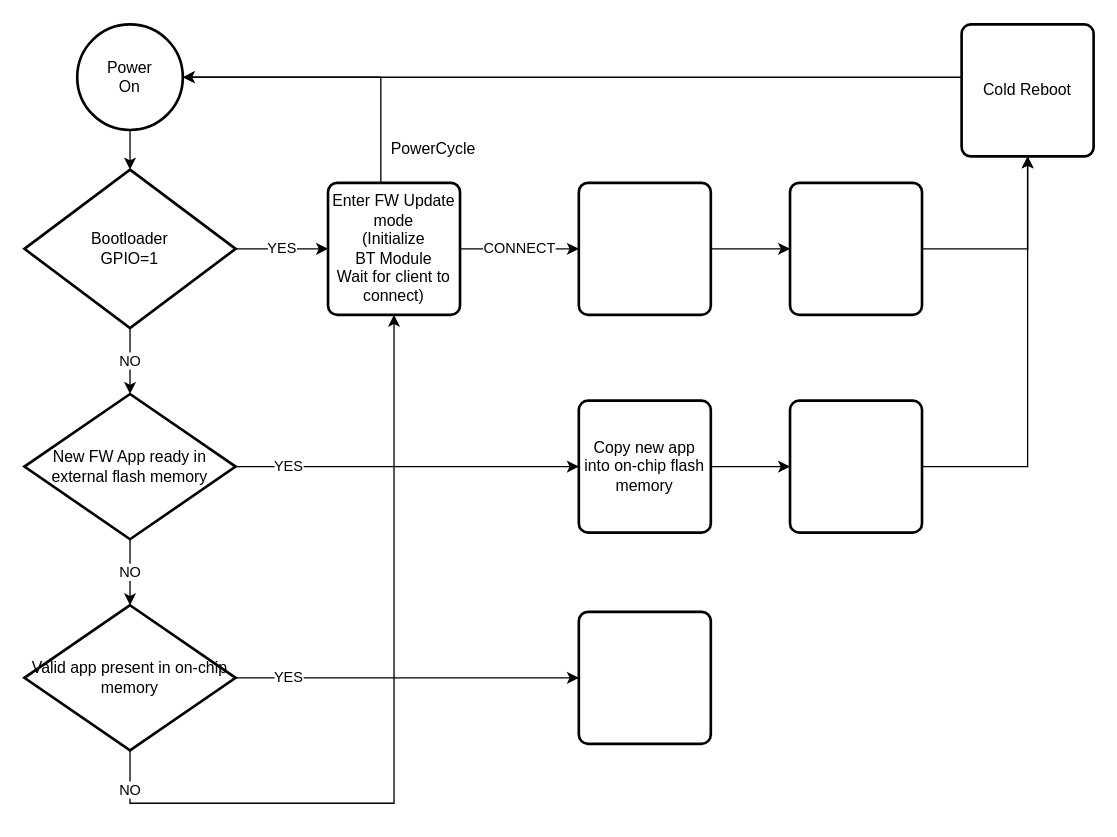
Some shapes in this 1117 by 837 pixel diagram are drawn without their labels. Here are the shapes that lost their labels. From the top down, the centre of each, then its label:
the point at 644,248: Download firmware and store to external flash memory
the point at 855,248: Validate and then set new app avaliable flag in external memory
the point at 855,466: Clear new app flag in external memory
the point at 644,677: Run RWLS FW application
